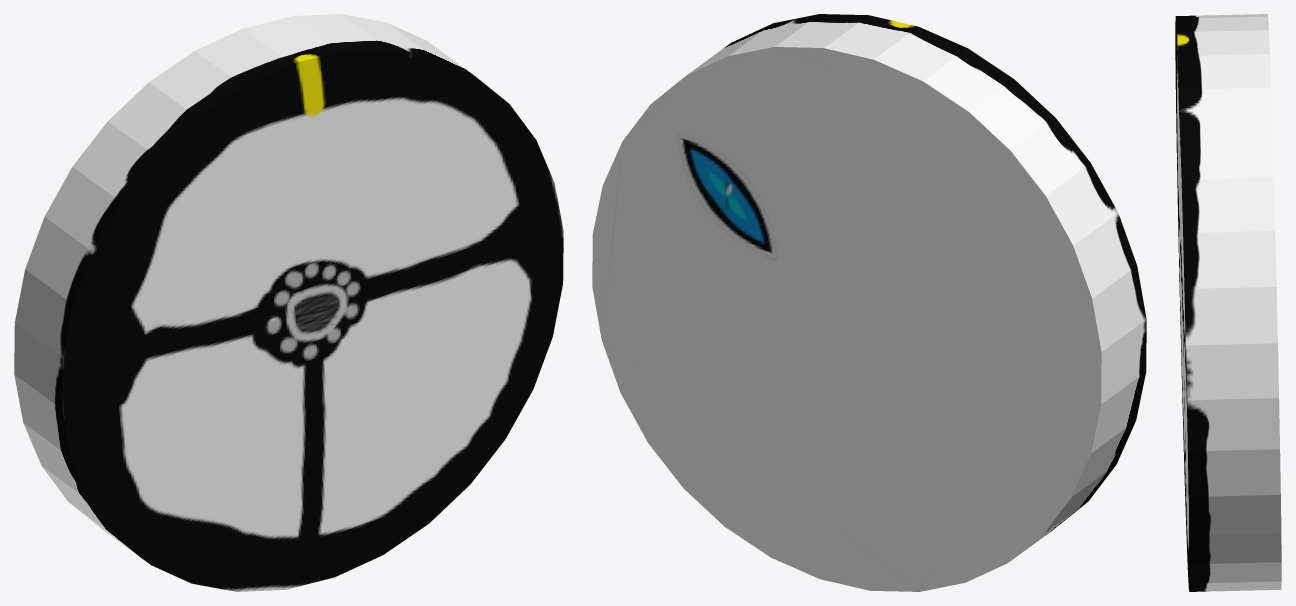
3 renders of one model, left to right at view 1: azimuth 30°, elevation 25°; view 2: azimuth 150°, elevation 25°; view 3: azimuth 270°, elevation 25°, orthographic.
Visible parts, largest first — view 1: node_id5; view 2: node_id5; view 3: node_id5.
Part boxes in pixels (box(x1,y1,x2,y2)): node_id5: box(14, 14, 563, 591); node_id5: box(592, 14, 1146, 591); node_id5: box(1175, 14, 1281, 591).
Bounding box in the file's own units: 0.4672 × 0.4671 × 0.0863.
Materials: 1 (1 with a texture image).
